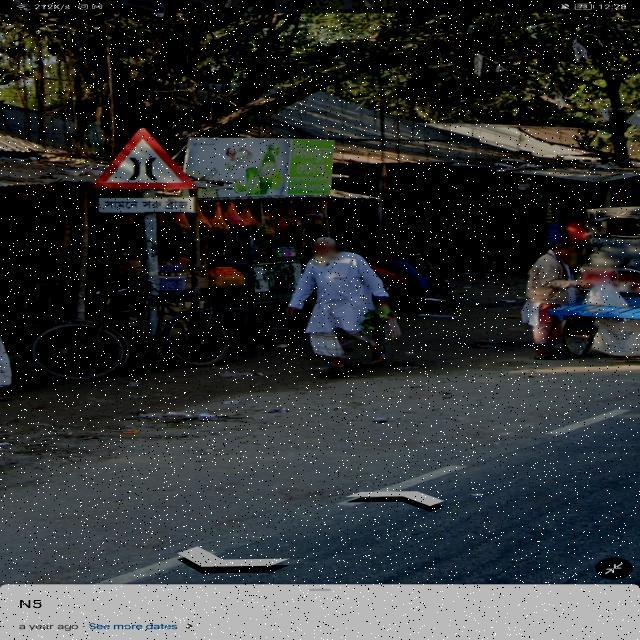Ahead-of-the-bridge: (88, 125, 206, 224)
